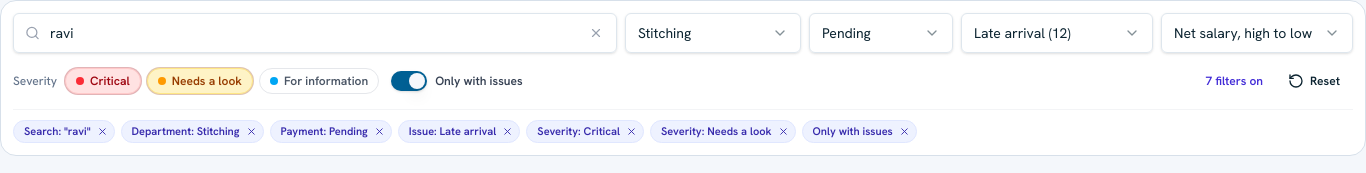
Test: the chips, the count and Reset › Reset puts every filter and the sort back
What coordinates should you click on to do the following:
click the button "Reset"
I would click on:
 (1314, 81)
Its box is [1275,65,1353,97].
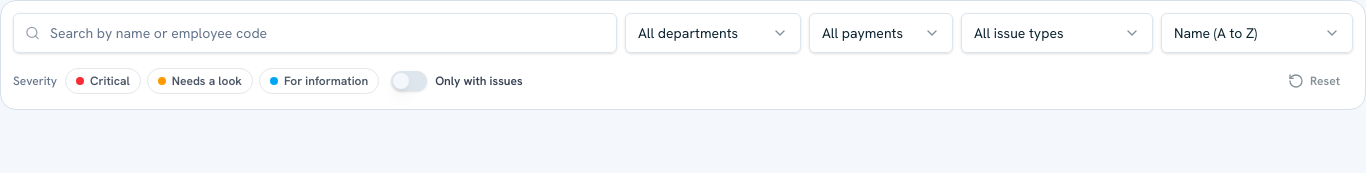
Now the text "Name (A to Z)" is shown, box [1174,23,1257,43]
